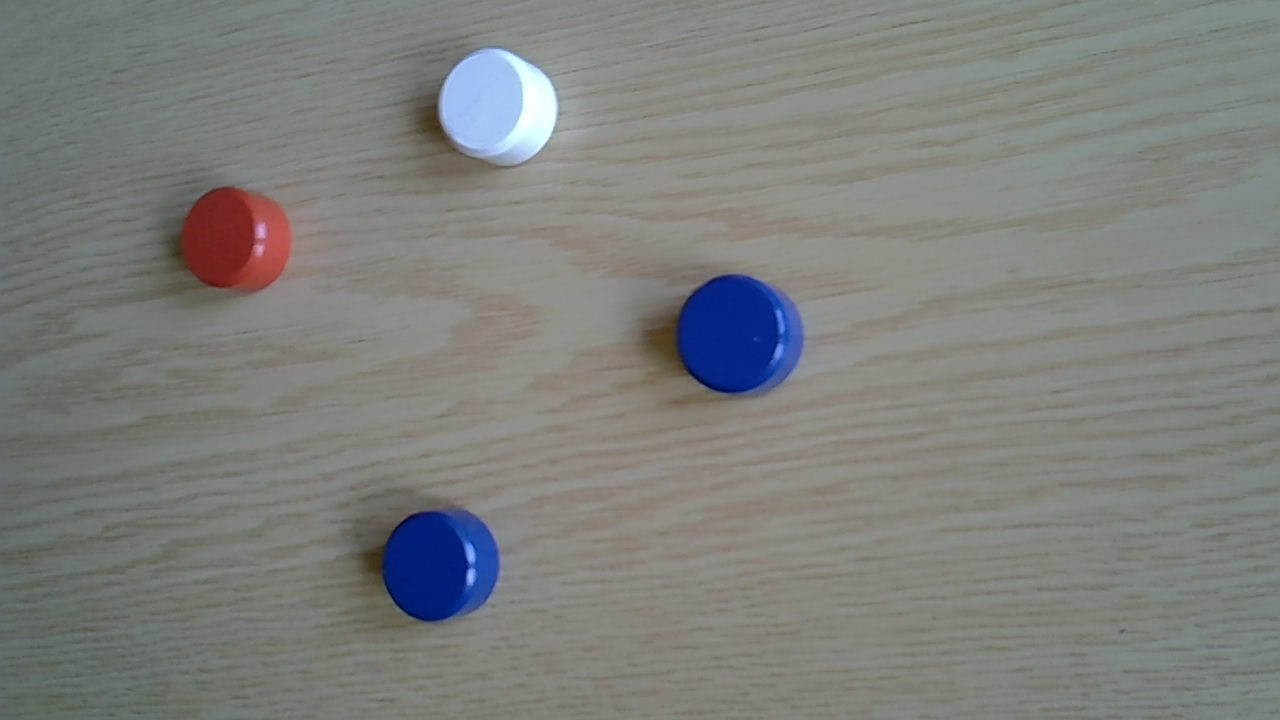WerkStueck: (675, 273, 805, 398), (437, 46, 562, 171), (380, 510, 502, 622), (179, 184, 293, 295)
